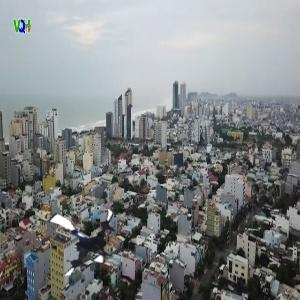drone: (37, 197, 124, 284)
